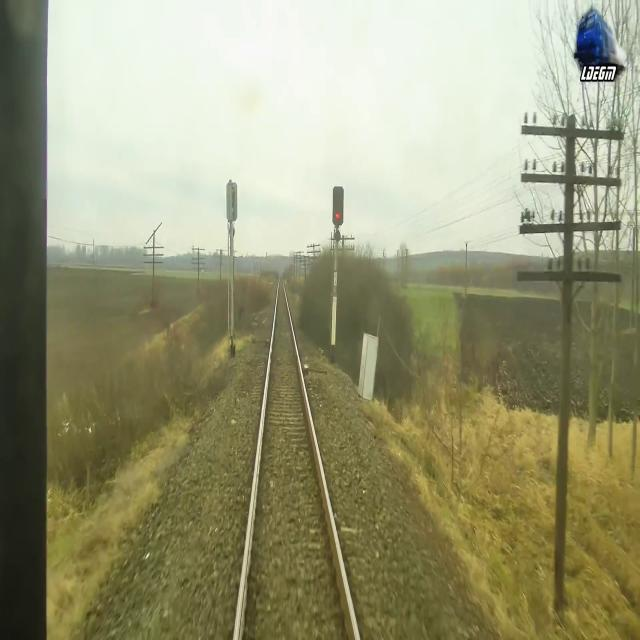rail-track: (238, 279, 356, 639)
